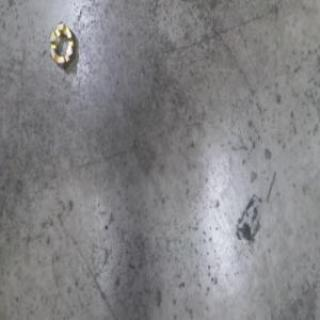Nuttrack_idkeyframe: (47, 20, 75, 72)
